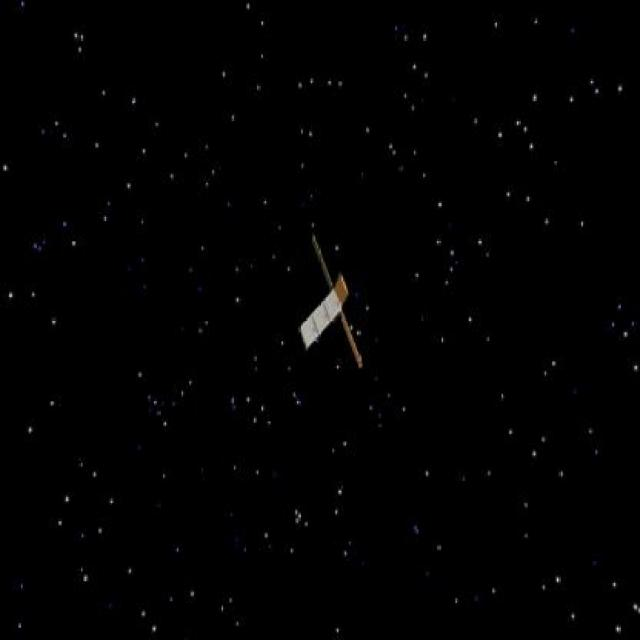satellite: (296, 225, 367, 383)
